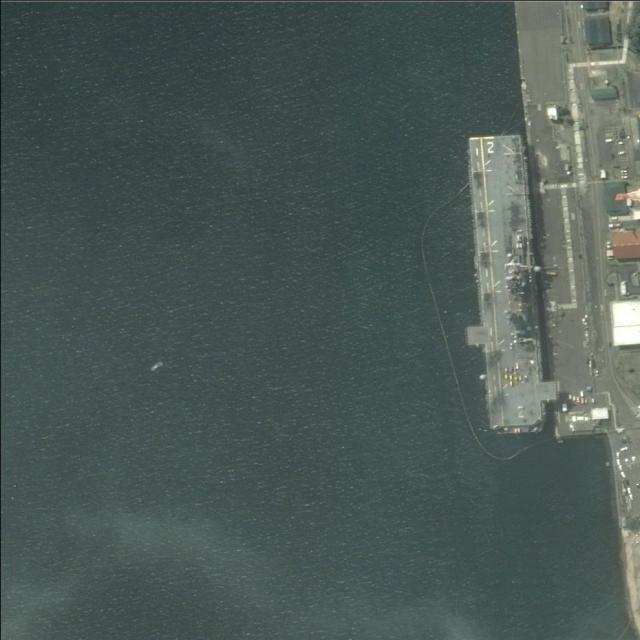Landing: (465, 134, 550, 431)
